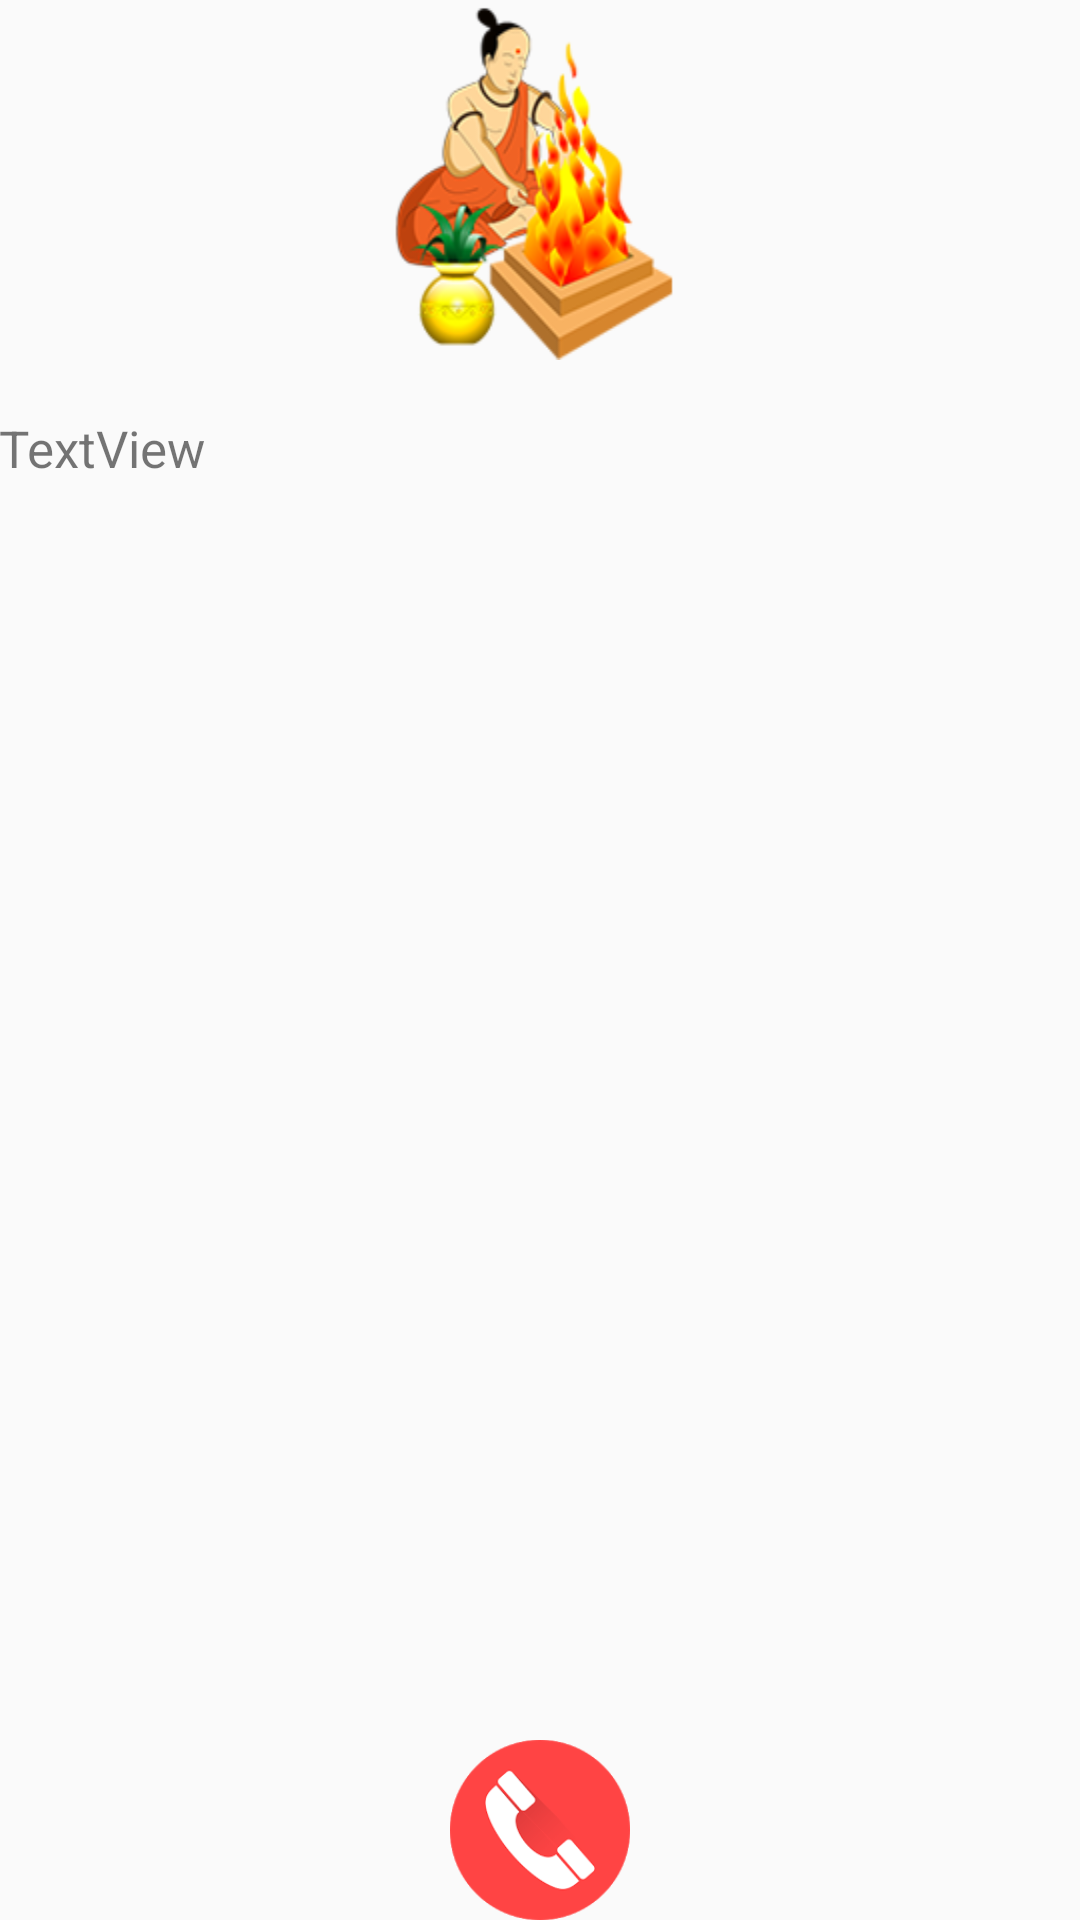

Where to tap for icons on this 1080x1920 app screen, as (x,y):
callus: (540,1830)
